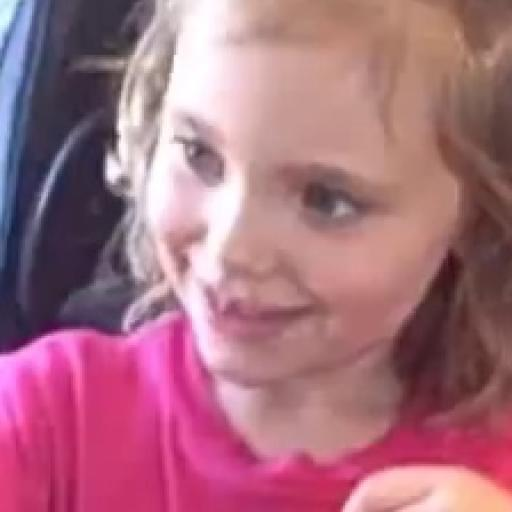Autism: (114, 10, 512, 463)
